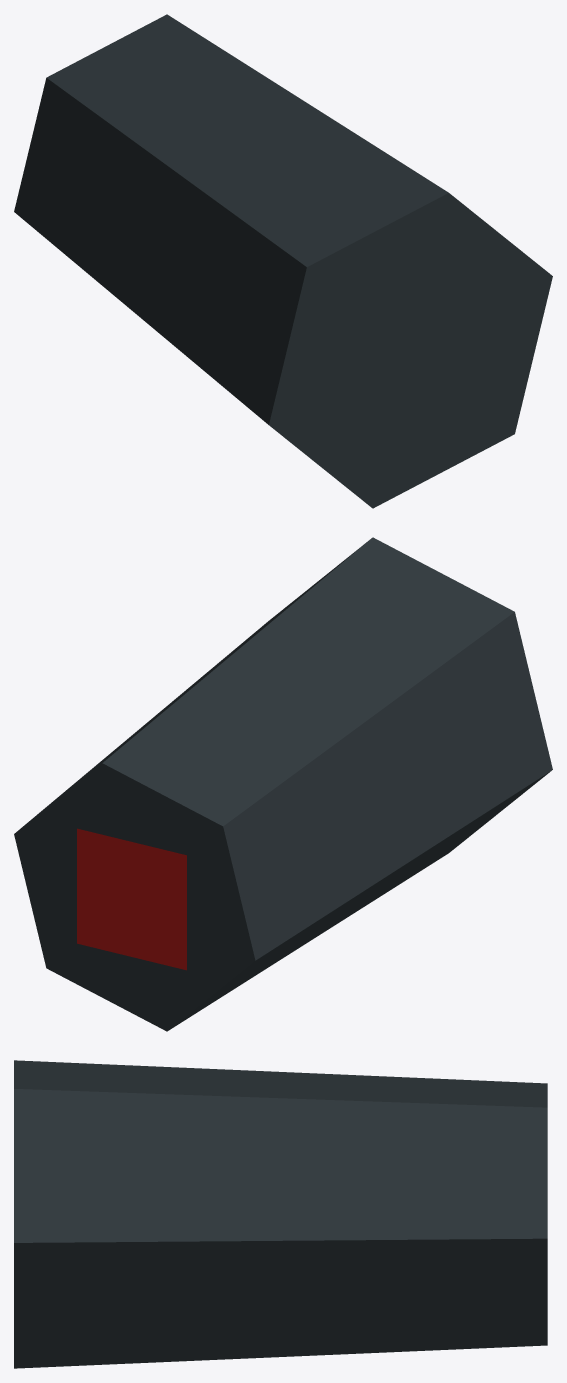
The picture shows the model from 3 angles, top to bottom: view 1: azimuth 30°, elevation 25°; view 2: azimuth 150°, elevation 25°; view 3: azimuth 270°, elevation 25°; orthographic projection. The views are drawn at different scales.
Visible parts, largest first — view 1: mount; view 2: mount; view 3: mount.
Part boxes in pixels (left/top/right/bottom): mount: left=14, top=14, right=552, bottom=508; mount: left=14, top=537, right=552, bottom=1031; mount: left=14, top=1060, right=547, bottom=1368.
Size of the model in its own units: 1.76 by 1.76 by 2.99.
